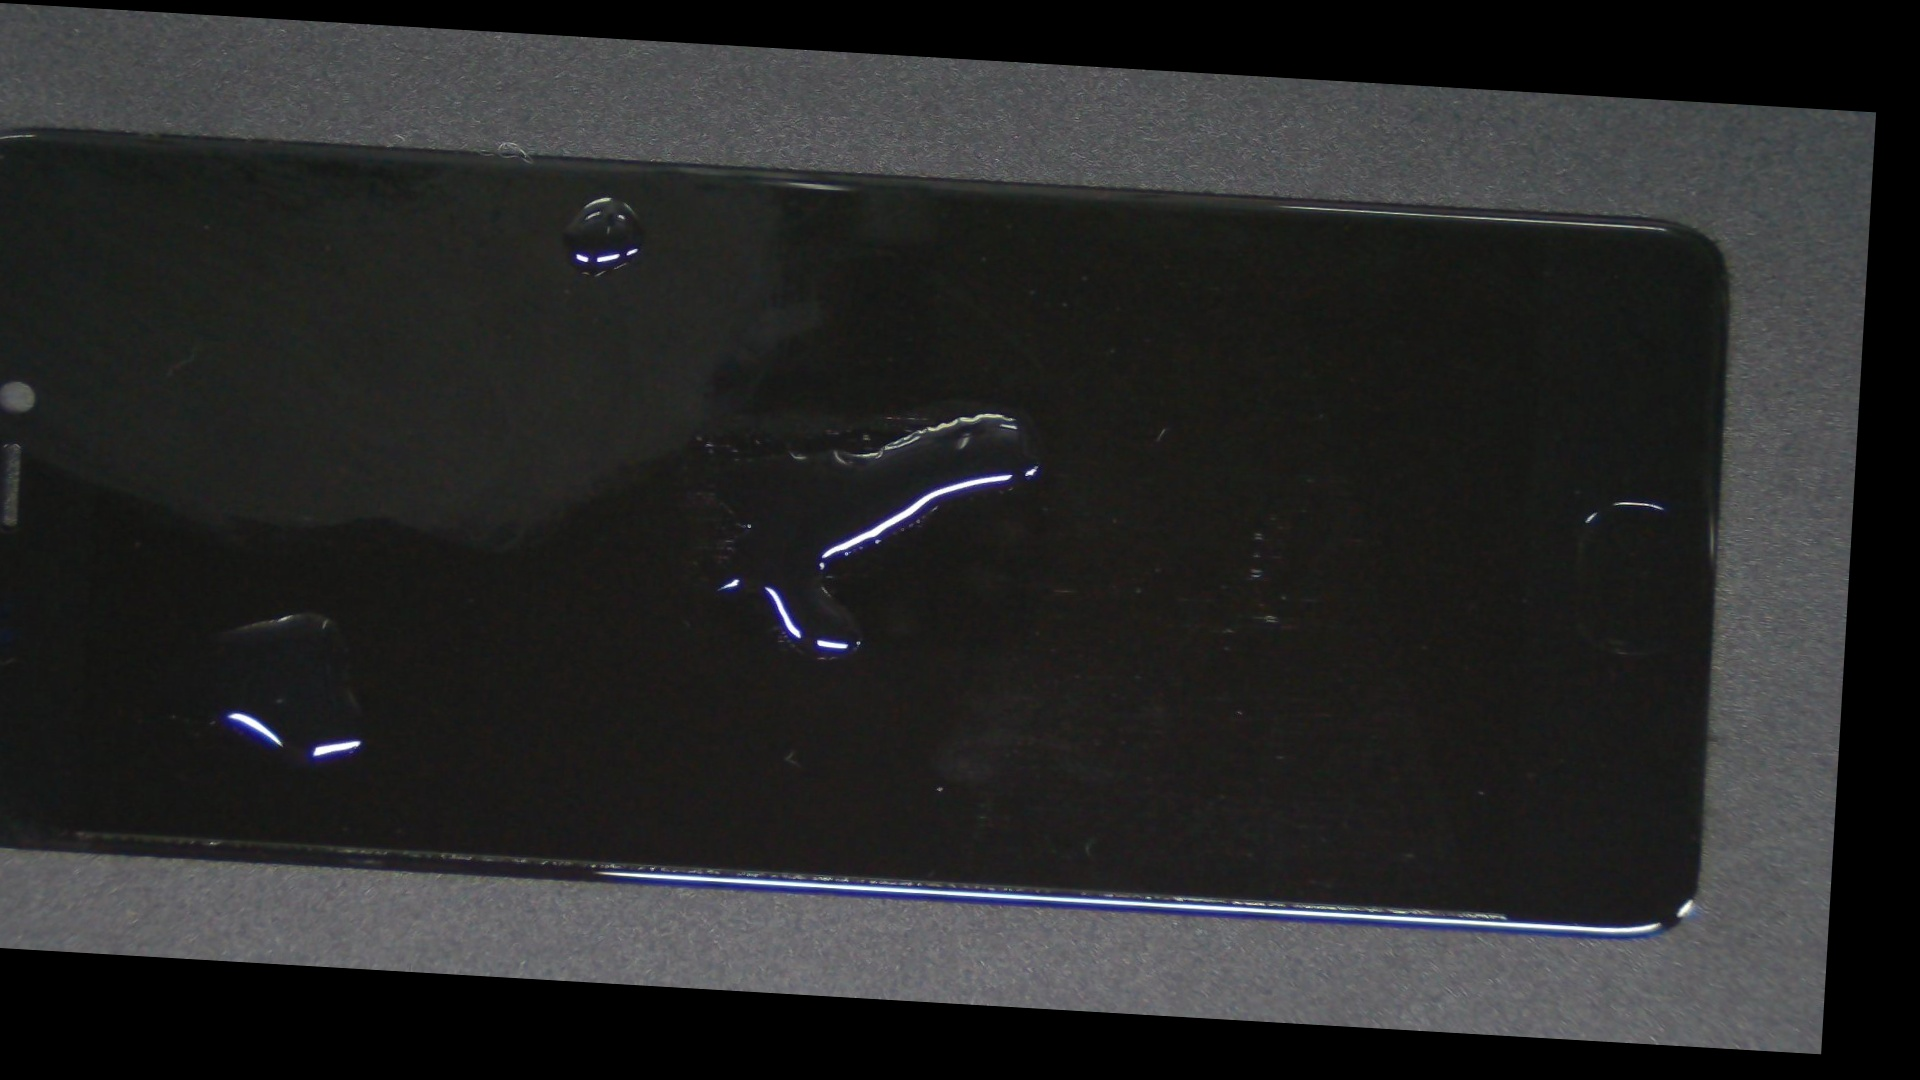oil: (434, 204, 1559, 620), (76, 305, 542, 922), (251, 96, 965, 297)
